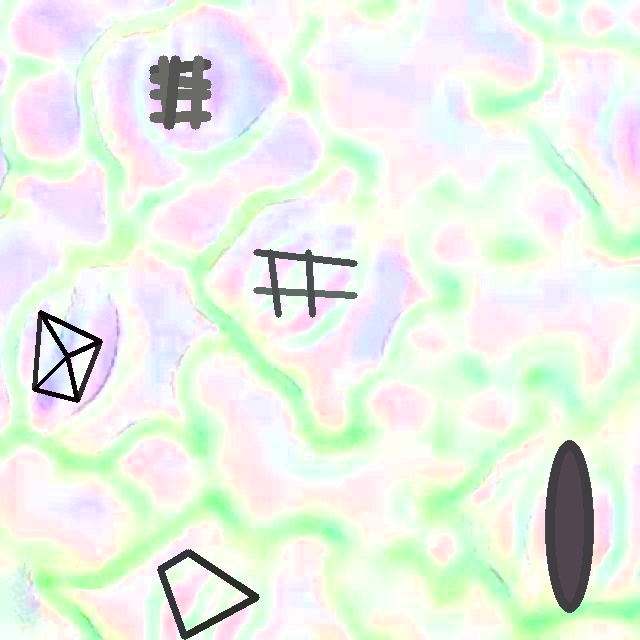close: (253, 250, 356, 316)
open: (157, 550, 258, 639), (545, 440, 594, 613), (33, 310, 101, 402), (150, 56, 210, 129)
